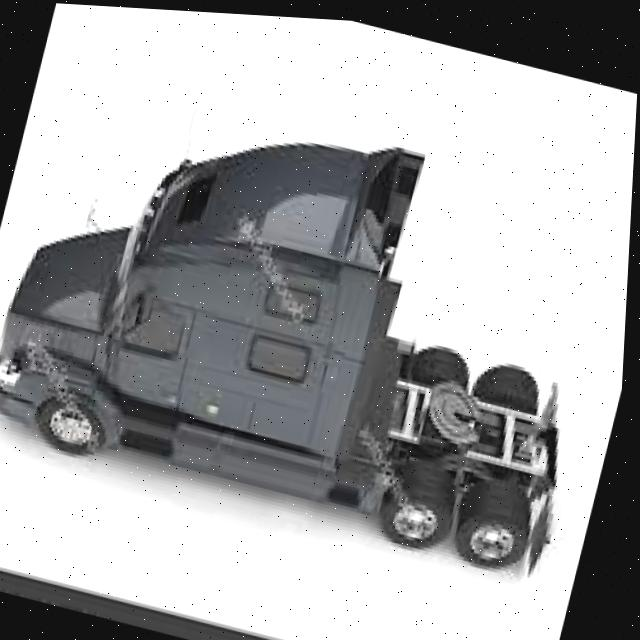truck: (0, 59, 629, 568)
